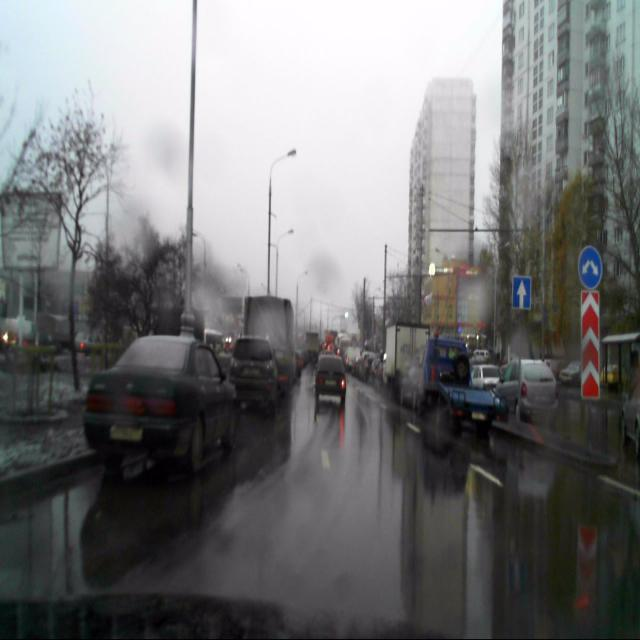object: (581, 292, 600, 399)
road sign: (512, 276, 531, 308)
